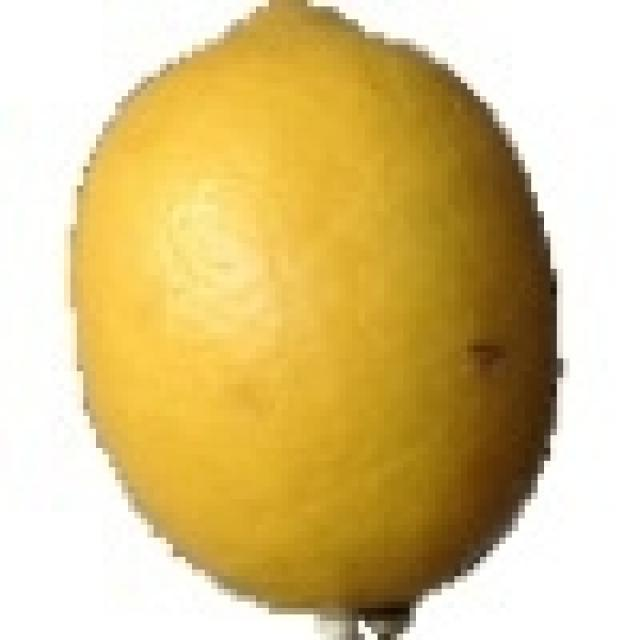lemon: (72, 0, 555, 619)
